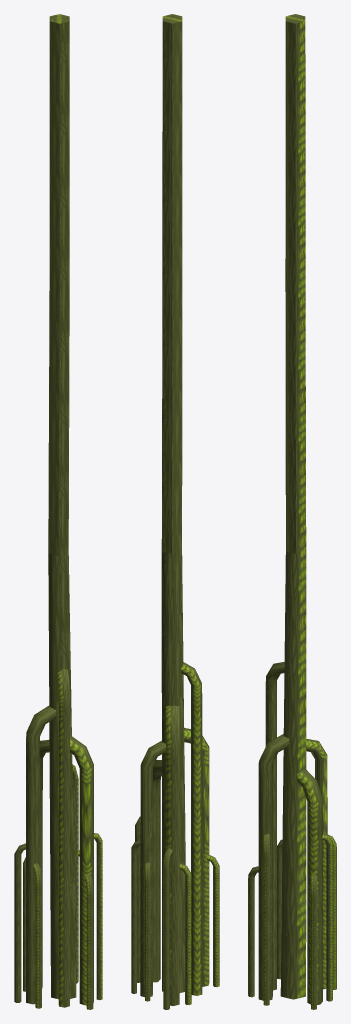
The model's file is tt_forest_tree_background_02.FBX.
The picture shows the model from 3 angles, left to right: view 1: azimuth 90°, elevation 25°; view 2: azimuth 150°, elevation 25°; view 3: azimuth 330°, elevation 25°; orthographic projection.
Visible parts, largest first — view 1: tree_003; view 2: tree_003; view 3: tree_003.
Boxes of the visible parts, box(x1,y1,x2,y2) form: tree_003: box(14, 14, 102, 1009); tree_003: box(131, 14, 219, 1009); tree_003: box(248, 14, 336, 1009).
Size of the model in its own units: 814 by 11000 by 902.
